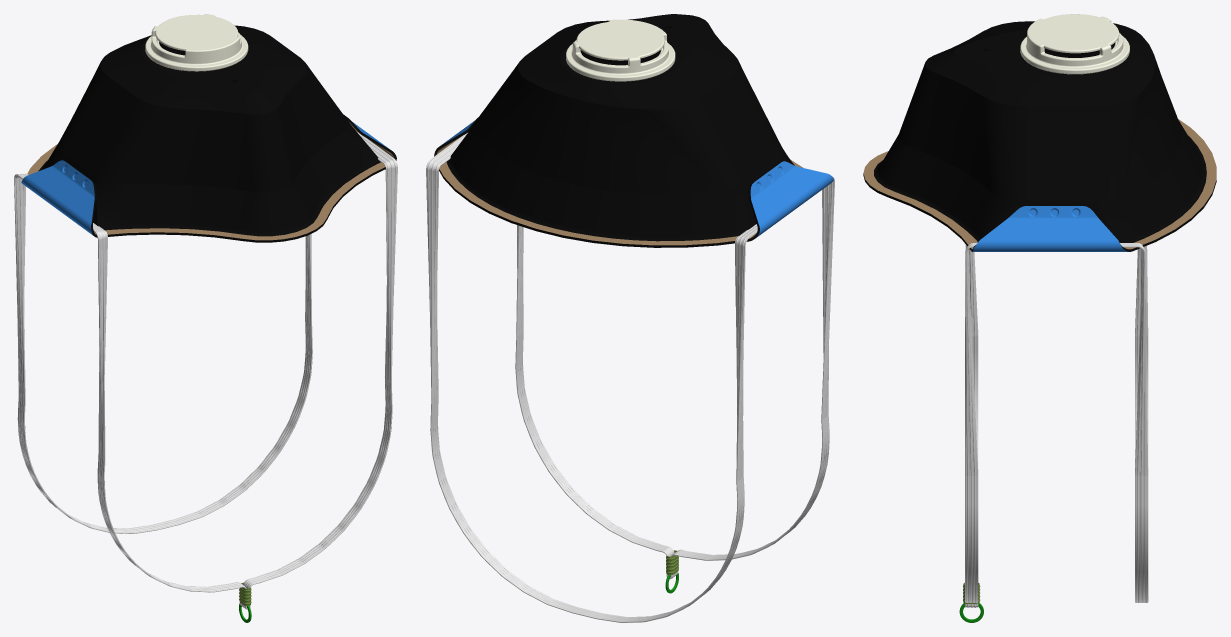
Rendered from Respirator_protections.FBX.
3 views of the same model, side by side, from view 1: azimuth 30°, elevation 25°; view 2: azimuth 150°, elevation 25°; view 3: azimuth 270°, elevation 25° (orthographic). The views are drawn at different scales.
Parts seen in each view (by area): view 1: Solido2, Solido6, Solido3; view 2: Solido2, Solido6, Solido3; view 3: Solido2, Solido6, Solido3.
Boxes of the visible parts, x1,y1,x2,y2 form: Solido2: [21, 25, 396, 242]; Solido6: [14, 131, 397, 609]; Solido3: [145, 14, 248, 71]; Solido2: [434, 14, 833, 247]; Solido6: [426, 133, 834, 622]; Solido3: [566, 19, 675, 81]; Solido2: [863, 21, 1216, 251]; Solido6: [965, 243, 1148, 607]; Solido3: [1020, 14, 1129, 74].
Size of the model in its own units: 0.14 by 0.2432 by 0.1318.
